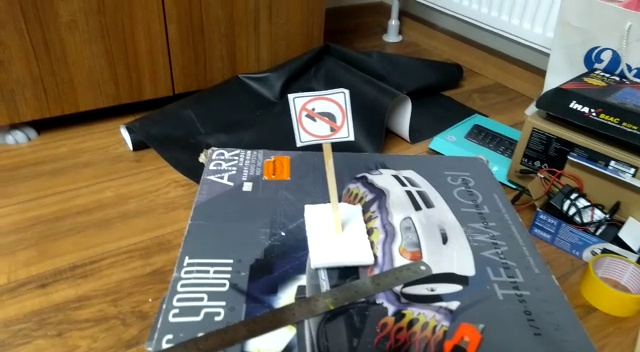sola_donulmez: (292, 95, 349, 139)
